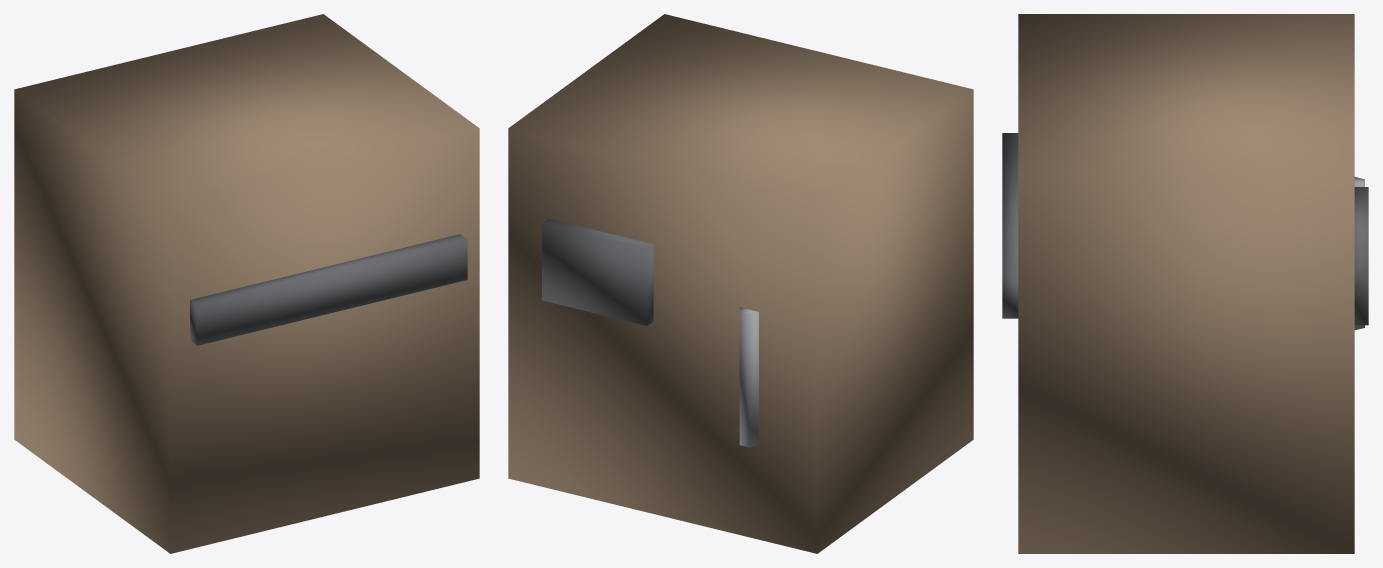
File: nightstand__service.glb
3 views of the same model, side by side, from view 1: azimuth 30°, elevation 25°; view 2: azimuth 150°, elevation 25°; view 3: azimuth 270°, elevation 25° (orthographic). The views are drawn at different scales.
Parts seen in each view (by area): view 1: world; view 2: world; view 3: world.
Boxes of the visible parts, bbox=[...] form: world: bbox=[14, 14, 479, 553]; world: bbox=[508, 14, 973, 553]; world: bbox=[1002, 14, 1368, 553].
Bounding box in the file's own units: 0.48 × 0.52 × 0.4575.
